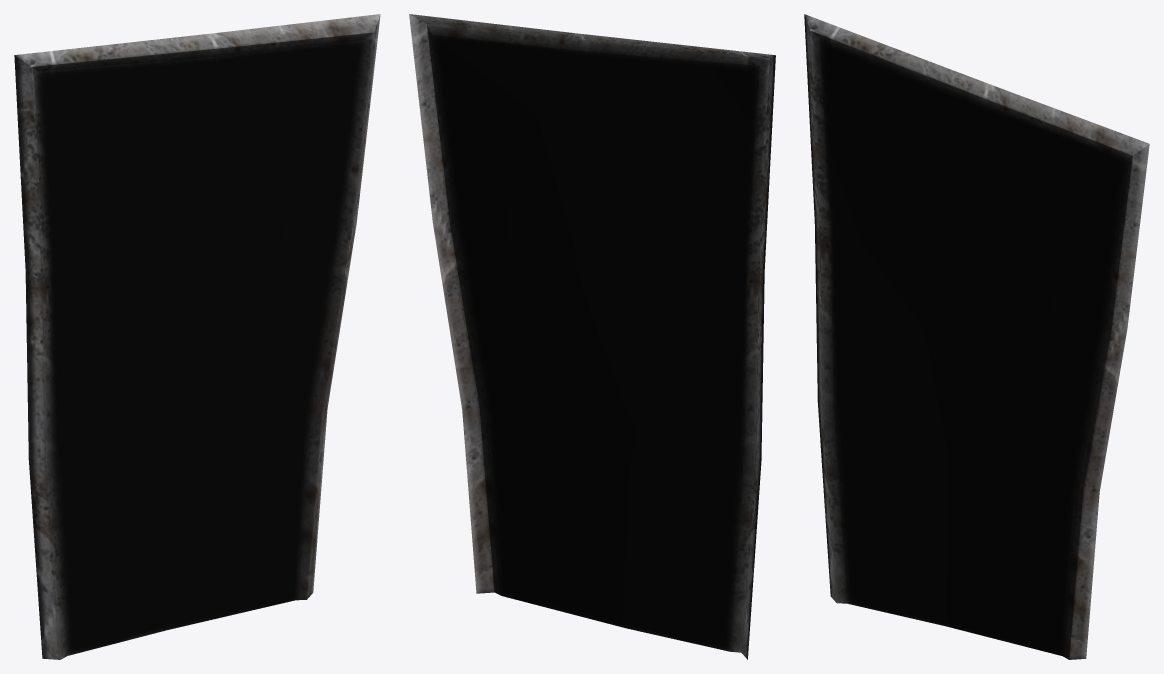
The model's file is ExitBackDoor.FBX.
3 renders of one model, left to right at view 1: azimuth 30°, elevation 25°; view 2: azimuth 150°, elevation 25°; view 3: azimuth 330°, elevation 25°, orthographic. The views are drawn at different scales.
Visible parts, largest first — view 1: BackDoor; view 2: BackDoor; view 3: BackDoor.
Boxes of the visible parts, box(x1,y1,x2,y2) form: BackDoor: box(14, 14, 380, 659); BackDoor: box(409, 14, 775, 659); BackDoor: box(804, 14, 1149, 659).
Bounding box in the file's own units: 68.57 × 109 × 1.88.
